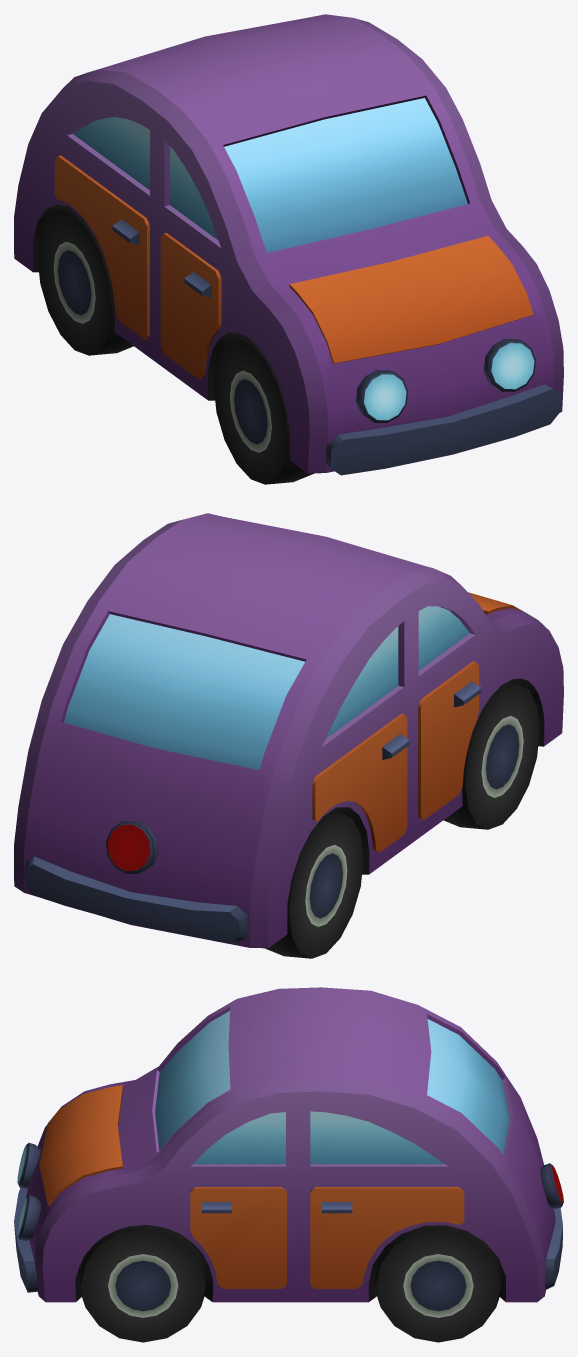
Rendered from Car_05.fbx.
3 views of the same model, one above another, from view 1: azimuth 30°, elevation 25°; view 2: azimuth 150°, elevation 25°; view 3: azimuth 270°, elevation 25° (orthographic). The views are drawn at different scales.
Visible parts, largest first — view 1: Car_05; view 2: Car_05; view 3: Car_05.
Boxes of the visible parts, box(x1,y1,x2,y2) form: Car_05: box(14, 14, 563, 484); Car_05: box(14, 513, 563, 958); Car_05: box(14, 987, 563, 1342).
Bounding box in the file's own units: 152 × 165 × 310.
Materials: 5 (5 with a texture image).
